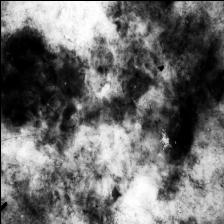Potentially Malignant Skin Tumors: (0, 33, 48, 121)
